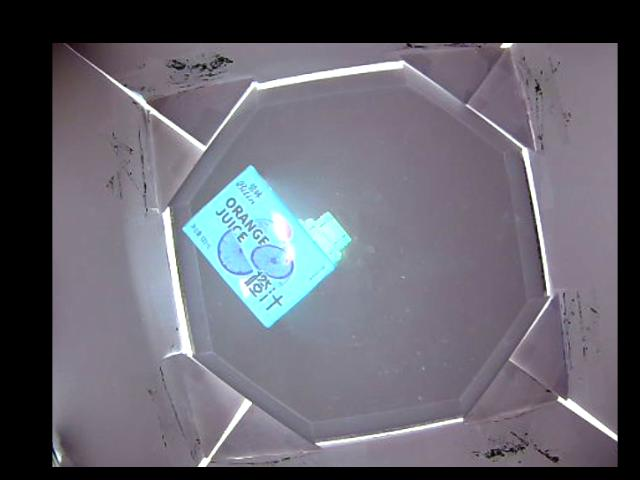Bottle: (180, 163, 352, 330)
